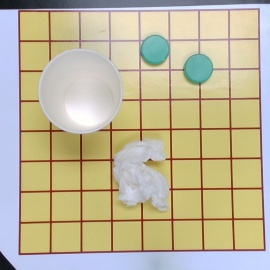cup: (39, 49, 123, 136)
green: (184, 53, 213, 83), (141, 35, 169, 64)
